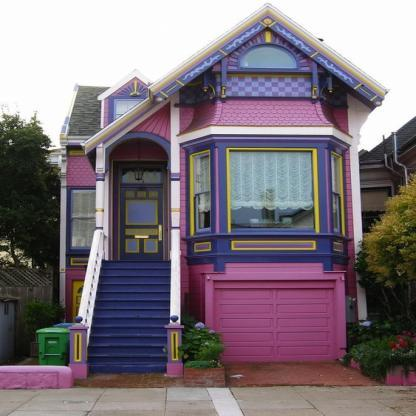Building Outline: (58, 2, 392, 380)
Cornice: (181, 134, 350, 151)
Dont: (341, 172, 415, 386), (21, 300, 75, 366), (175, 313, 226, 369)
Door: (213, 280, 336, 360), (120, 188, 164, 261), (120, 167, 164, 186)
Door Hole: (109, 137, 171, 261)
Facade: (79, 93, 359, 361)
Floor: (61, 136, 358, 261)
Floor Slab: (61, 261, 363, 269), (61, 131, 358, 136)
Ground Floor: (62, 269, 365, 361)
Molding: (154, 16, 383, 106)
Roof: (177, 99, 349, 136), (67, 86, 112, 137), (66, 156, 96, 186)
Sill: (180, 233, 353, 243)
Top Floor: (68, 17, 358, 131)
Window: (227, 147, 319, 233), (189, 149, 211, 236), (70, 188, 101, 249), (239, 43, 296, 68), (331, 151, 346, 236), (114, 99, 146, 129)
